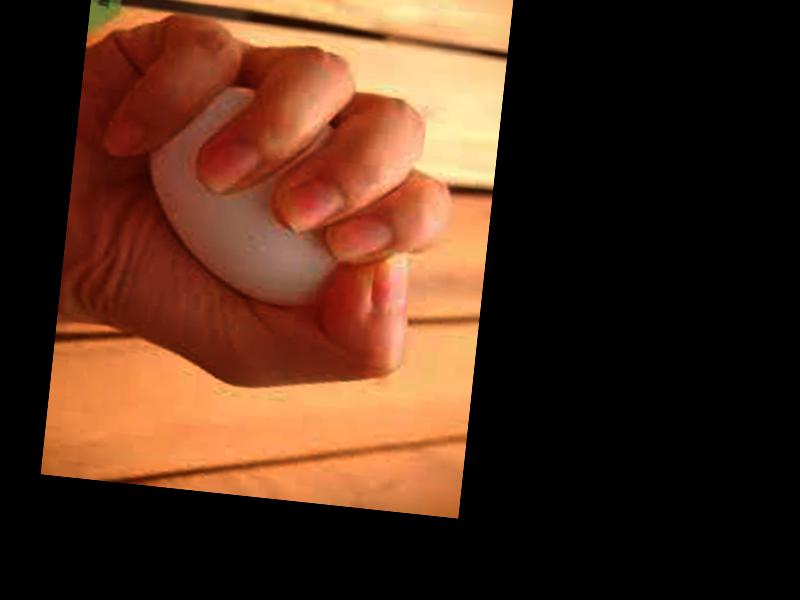Eggs: (135, 76, 354, 312)
